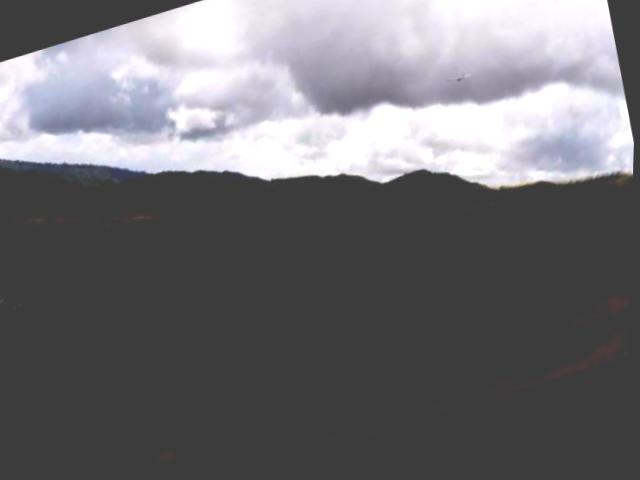iha: (442, 72, 476, 98)
